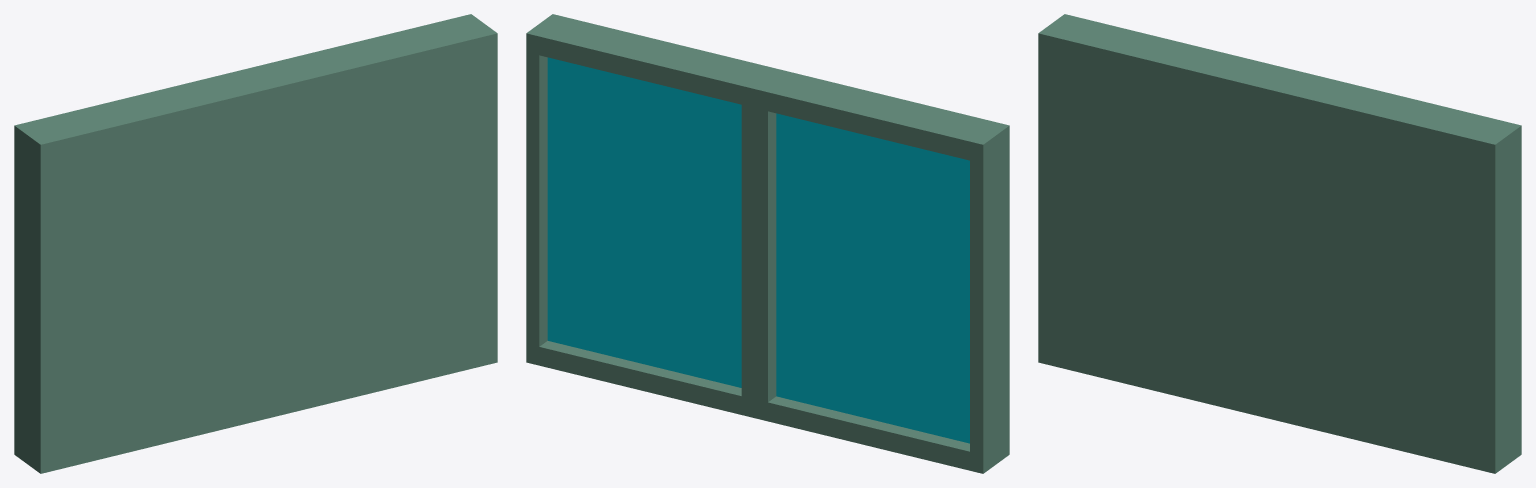
The model's file is window1.fbx.
3 views of the same model, side by side, from view 1: azimuth 30°, elevation 25°; view 2: azimuth 150°, elevation 25°; view 3: azimuth 330°, elevation 25° (orthographic).
Visible parts, largest first — view 1: window1; view 2: window1; view 3: window1.
Boxes of the visible parts, x1,y1,x2,y2 form: window1: (14,14,497,473); window1: (526,14,1009,473); window1: (1038,14,1521,473).
Size of the model in its own units: 528 by 363 by 52.88.
